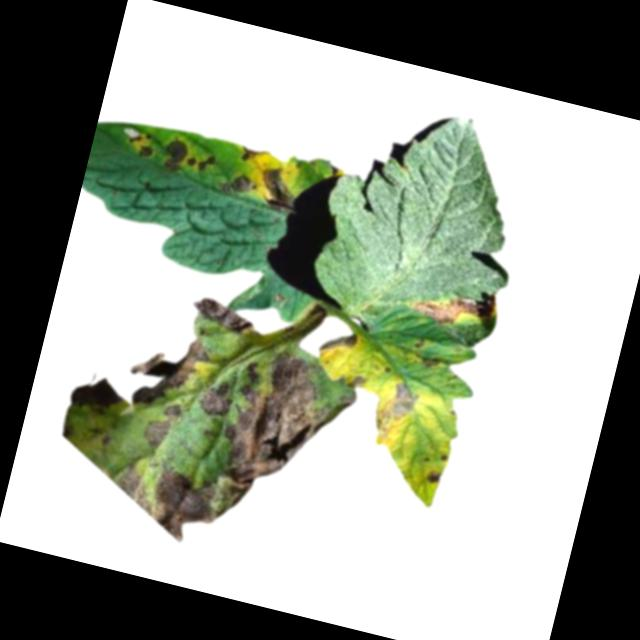Early_blight: (207, 336, 343, 500), (106, 453, 239, 554), (122, 322, 215, 418), (408, 271, 502, 335), (186, 287, 256, 337), (370, 376, 420, 438), (63, 366, 126, 413), (251, 164, 300, 216), (197, 373, 239, 422), (117, 122, 159, 159), (136, 413, 172, 456), (157, 131, 188, 174), (320, 323, 359, 357), (215, 167, 252, 199), (182, 145, 217, 176), (235, 139, 265, 166), (347, 369, 367, 389), (424, 464, 442, 485)
